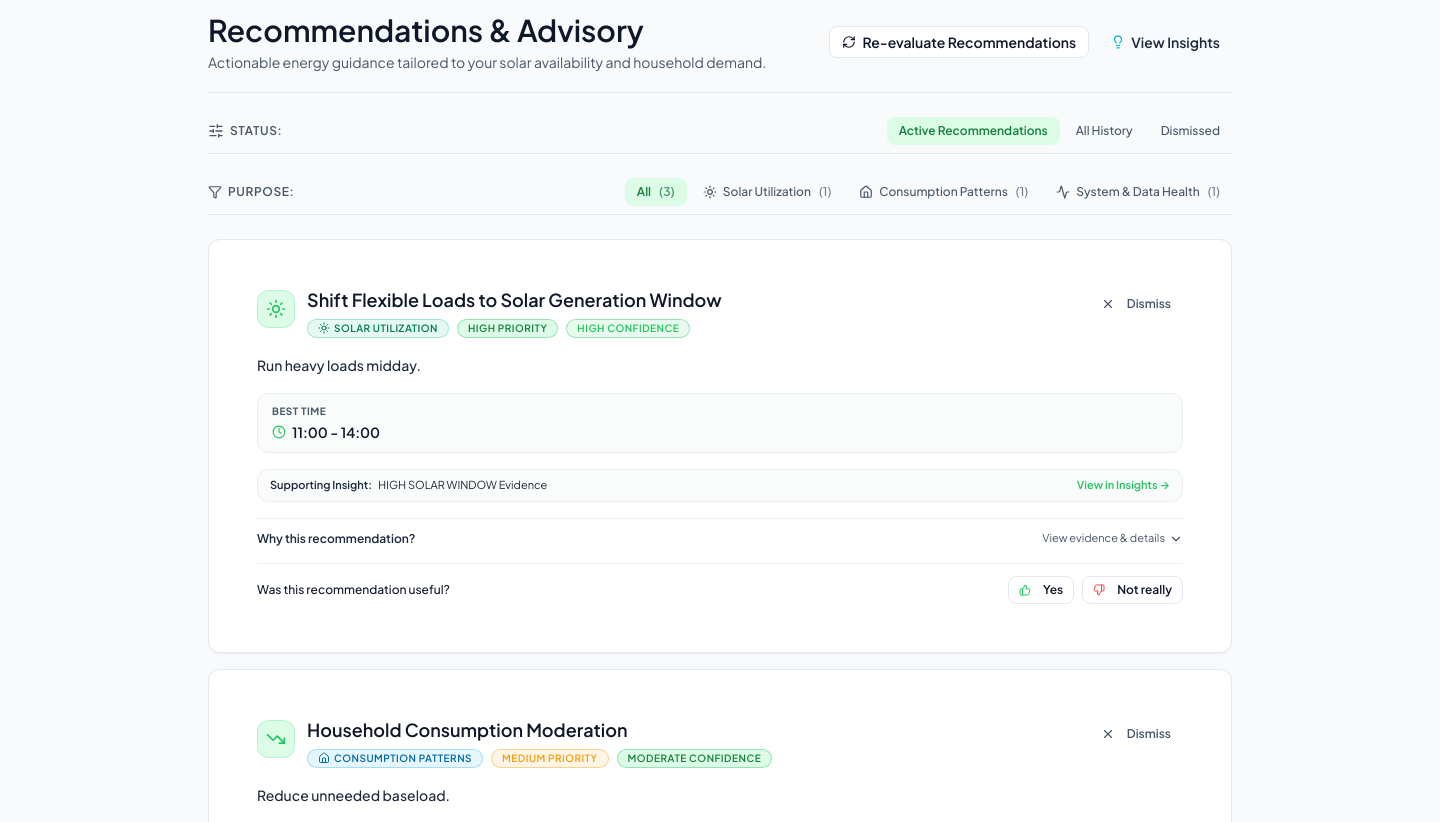
it: Recommendation Categorization & Purpose Segregation › RecommendationsPage category filter UX › filters recommendations when a purpose category tab is clicked
Expected: the heading "Shift Flexible Loads to Solar Generation Window" is shown, [307,288,722,313]
Note: Filter by Solar Utilization
Step 1. Click the button "Solar Utilization (1)" → x=767, y=192, box [691,178,843,206]
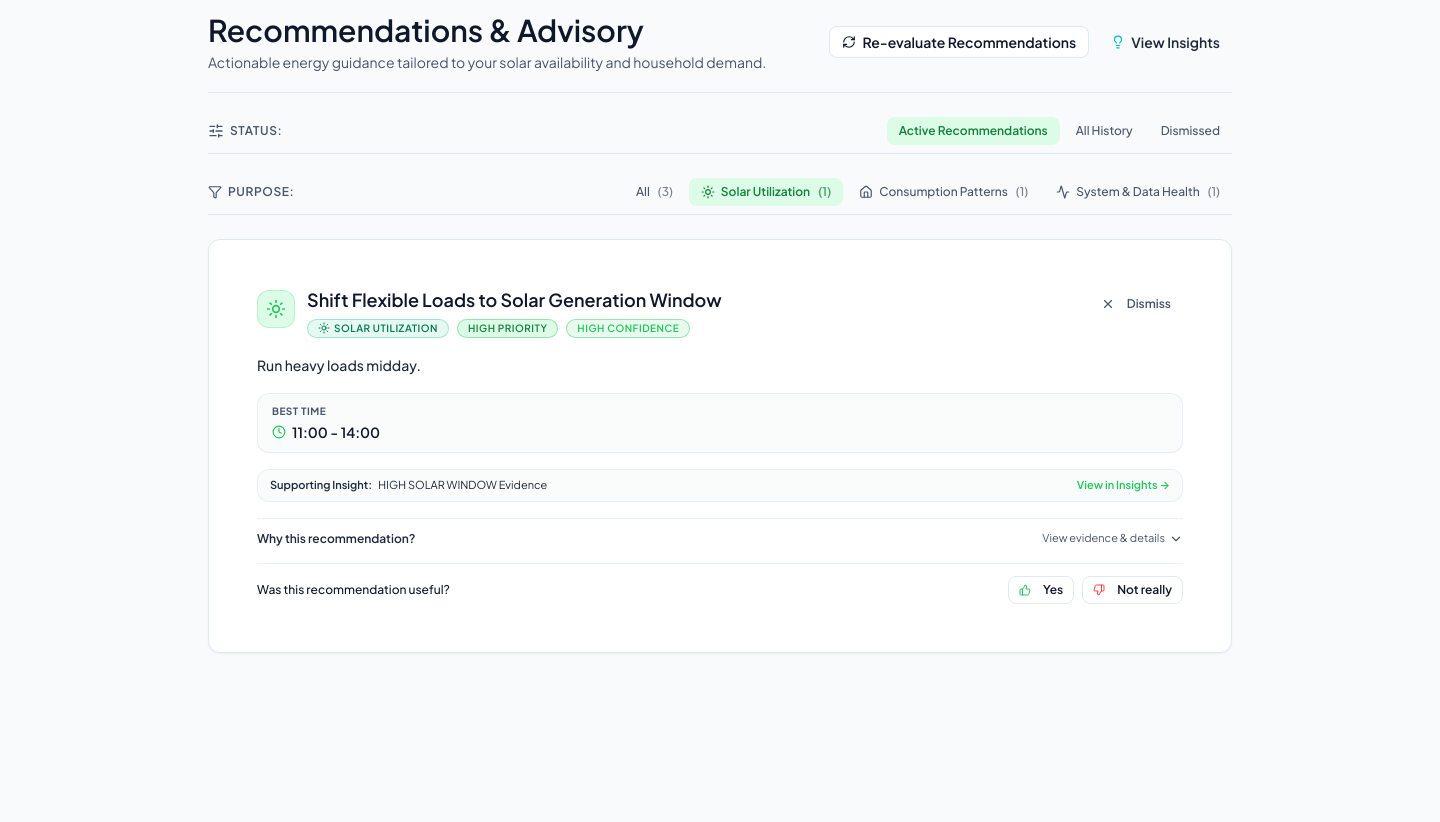
Expected: the heading "Shift Flexible Loads to Solar Generation Window" is shown, [307,288,722,313]
Result: the heading "Household Consumption Moderation" is gone
Note: Filter by Consumption Patterns
Step 2. Click the button "Consumption Patterns (1)" → x=944, y=192, box [847,178,1040,206]
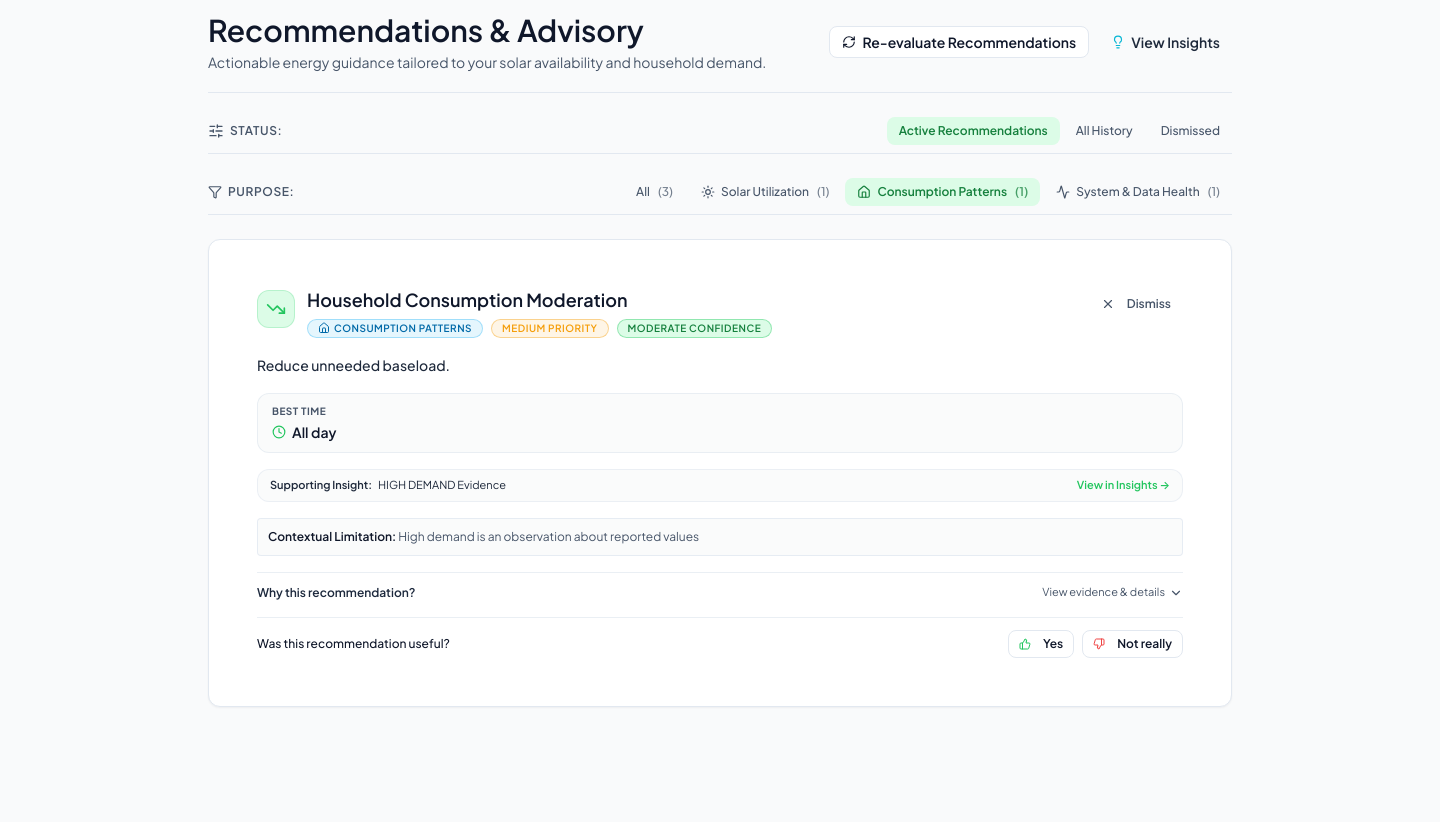
Result: the heading "Shift Flexible Loads to Solar Generation Window" is gone
Result: the heading "Household Consumption Moderation" is shown at [307,288,628,311]
